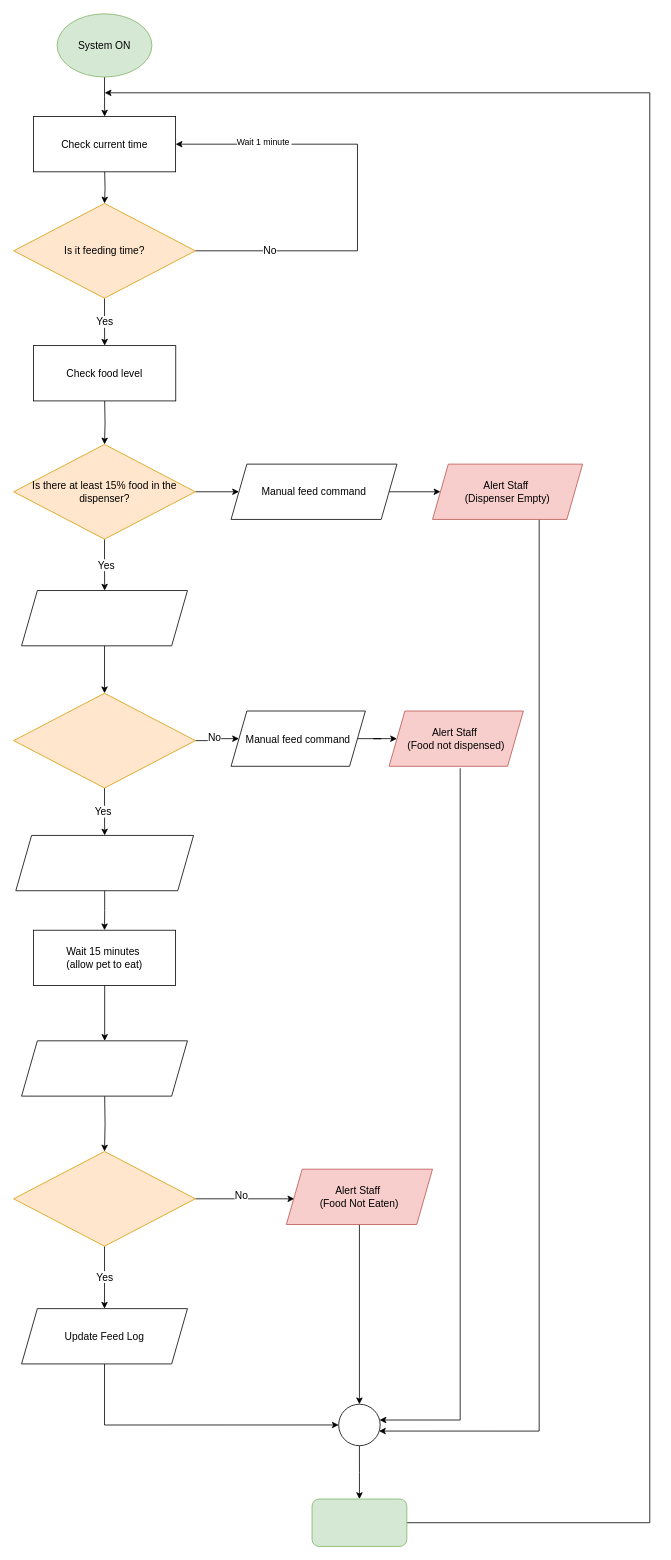
Some shapes in this 671 by 1560 pixel diagram are drawn without their labels. Here are the shapes that lost their labels. From the top down, the centre of each, then its label:
[104,618]: Dispense food
[104,740]: Has the food been dispensed?
[104,863]: Check bowl weight before feeding
[104,1068]: Check bowl weight after feeding
[104,1198]: Has the pet eaten?
[359,1522]: System on Standby
